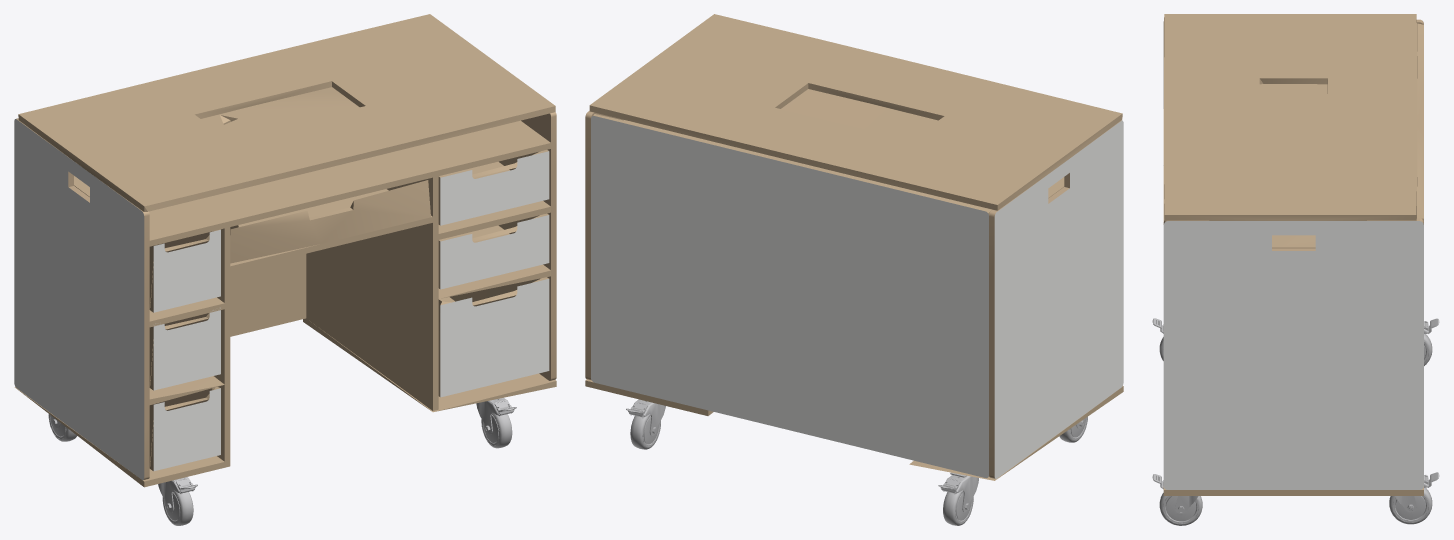
Rendered from mesa.glb.
3 renders of one model, left to right at view 1: azimuth 30°, elevation 25°; view 2: azimuth 150°, elevation 25°; view 3: azimuth 270°, elevation 25°, orthographic.
Visible parts, largest first — view 1: Roble_-_Brillante, Pintura_-_Esmaltado_brillante_(blanco), Roble_-_Semibrillante, Acero_-_Satinado; view 2: Pintura_-_Esmaltado_brillante_(blanco), Roble_-_Brillante, Roble_-_Semibrillante, Acero_-_Satinado; view 3: Pintura_-_Esmaltado_brillante_(blanco), Roble_-_Brillante, Acero_-_Satinado.
Boxes of the visible parts, <box> form: Roble_-_Brillante: <box>14,14,556,487</box>; Pintura_-_Esmaltado_brillante_(blanco): <box>14,119,549,480</box>; Roble_-_Semibrillante: <box>16,112,556,479</box>; Acero_-_Satinado: <box>48,397,516,525</box>; Pintura_-_Esmaltado_brillante_(blanco): <box>591,116,1123,478</box>; Roble_-_Brillante: <box>585,14,1123,480</box>; Roble_-_Semibrillante: <box>585,111,1121,478</box>; Acero_-_Satinado: <box>626,399,1087,525</box>; Pintura_-_Esmaltado_brillante_(blanco): <box>1163,221,1423,489</box>; Roble_-_Brillante: <box>1163,14,1423,495</box>; Acero_-_Satinado: <box>1152,318,1439,525</box>.
Bounding box in the file's own units: 1 × 0.7736 × 0.6022.
